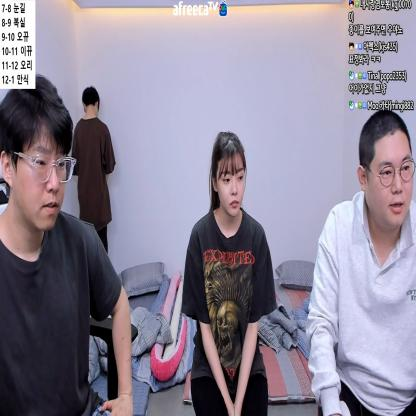streamer: (0, 72, 133, 416), (305, 110, 416, 416), (181, 129, 277, 416), (70, 86, 116, 293)
